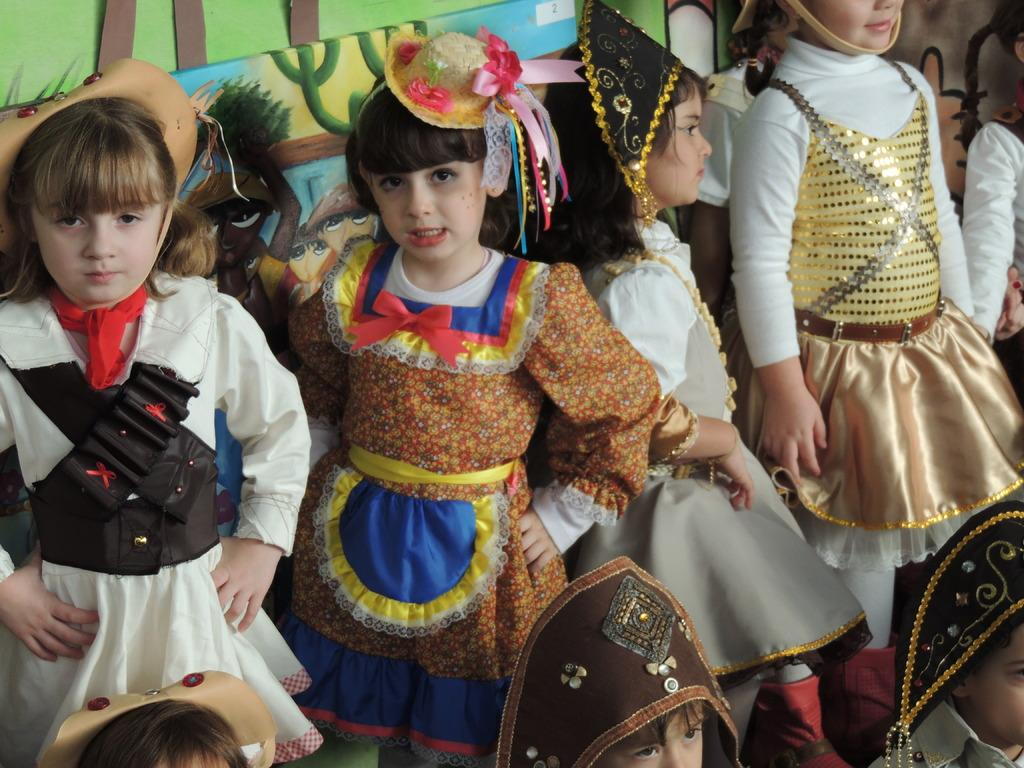Hat: (382, 27, 570, 254)
